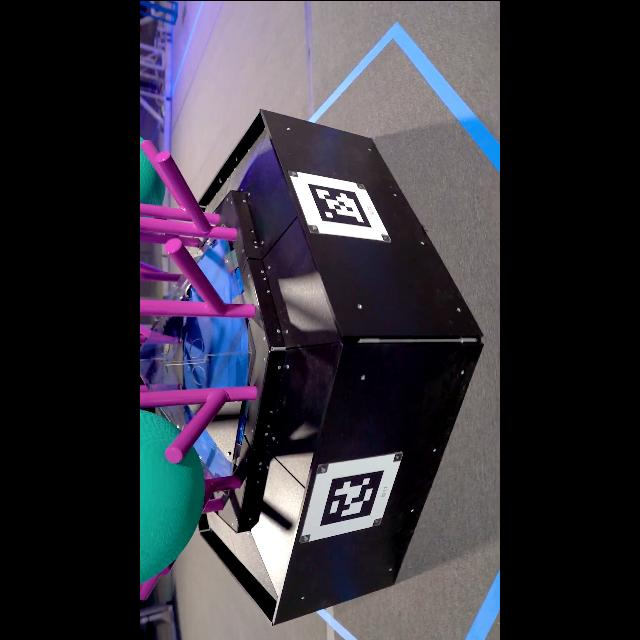ALGAE: (140, 408, 206, 584), (140, 136, 166, 206)
